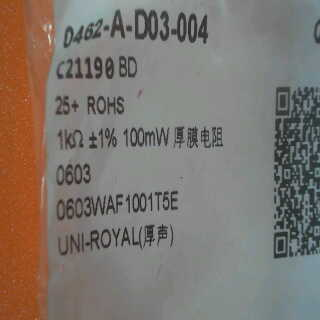1kR: (54, 125, 85, 151)
